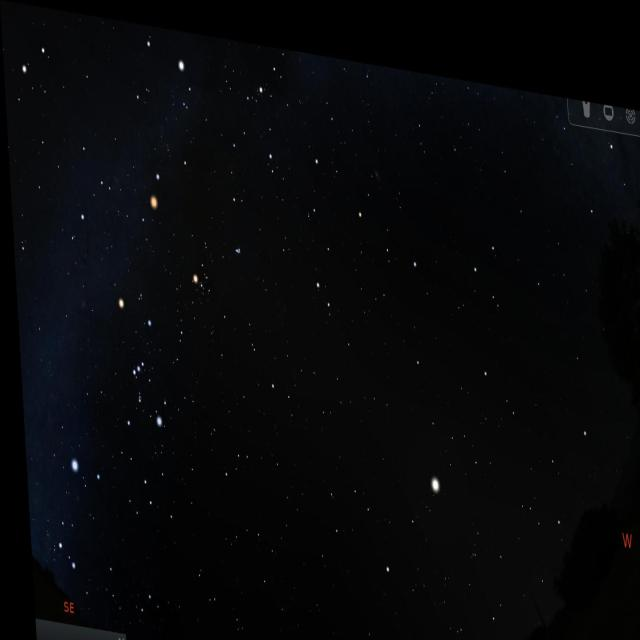canis_major: (45, 450, 105, 583)
canis_minor: (11, 237, 29, 286)
gemini: (7, 19, 126, 219)
orion: (102, 285, 164, 429)
pleiades: (228, 232, 244, 258)
taurus: (179, 201, 252, 324)
